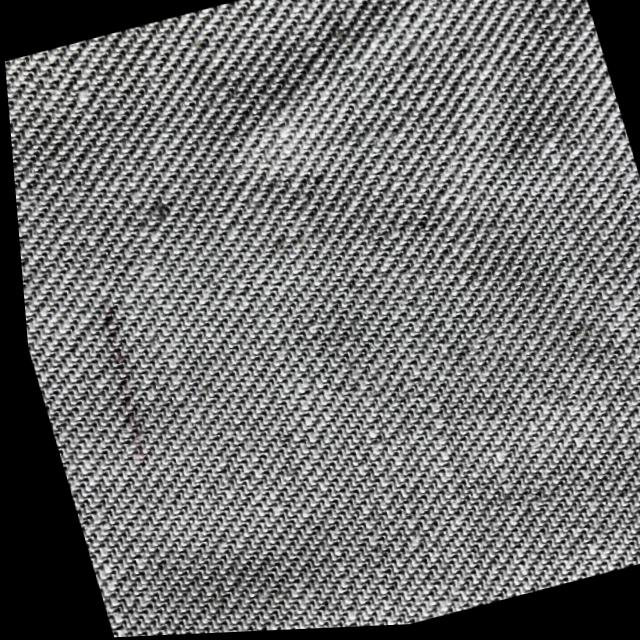Hole: (84, 302, 149, 460)
